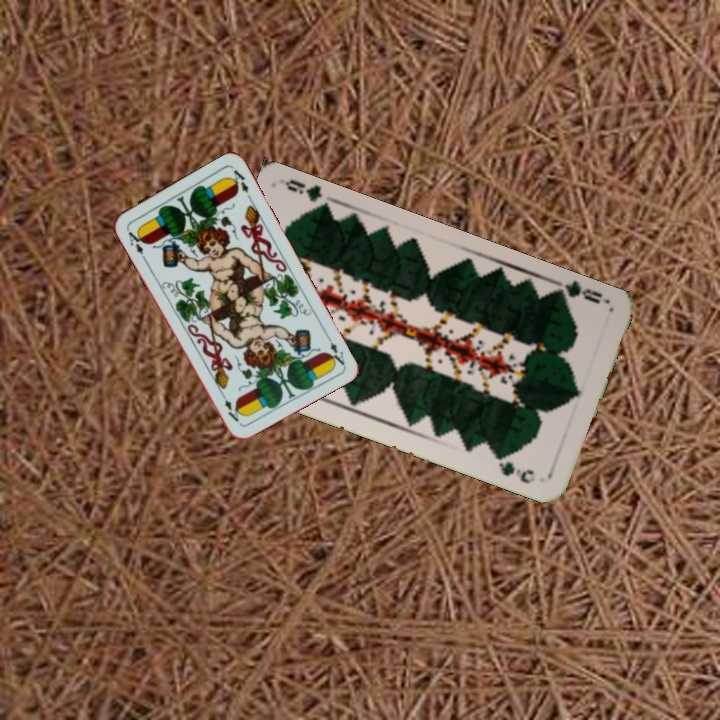EA: (321, 330, 347, 368), (122, 225, 147, 257)
G9: (551, 277, 605, 306)
